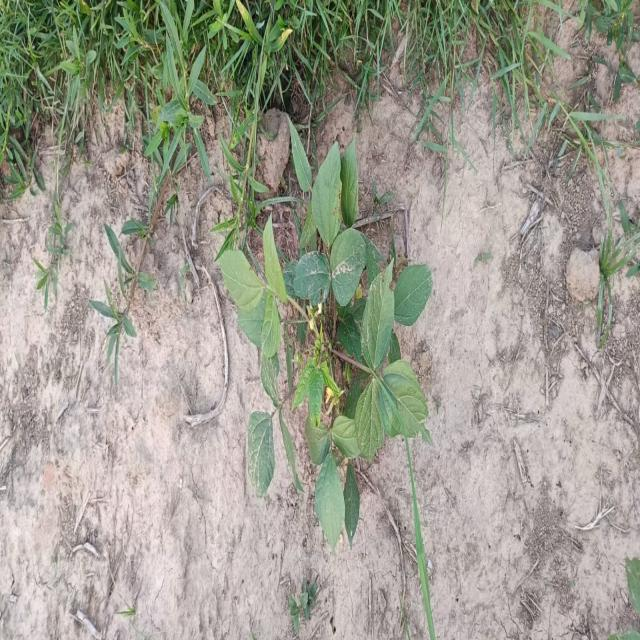plant: (220, 123, 433, 631)
